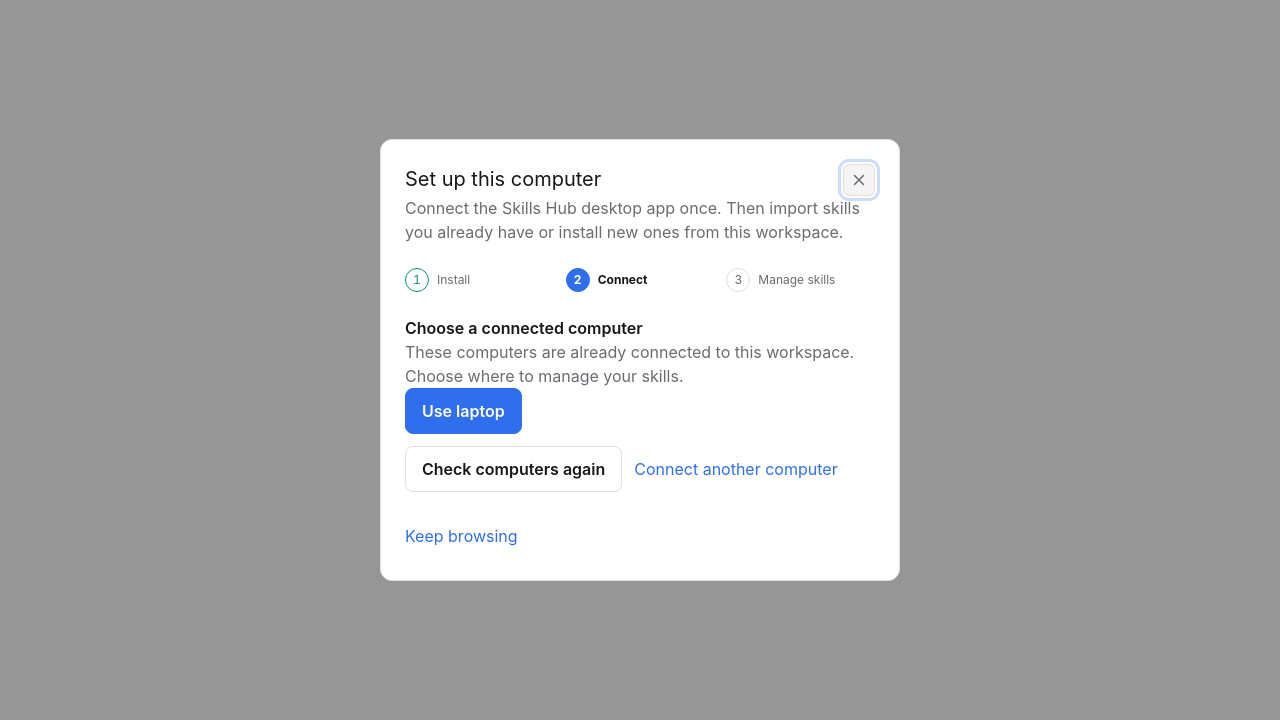
Test: rechecks a listed computer before selecting it and explains if it went offline
The image size is (1280, 720).
Click the button "Use laptop".
click(463, 411)  # box [405,388,522,434]
Wait 3000 ms
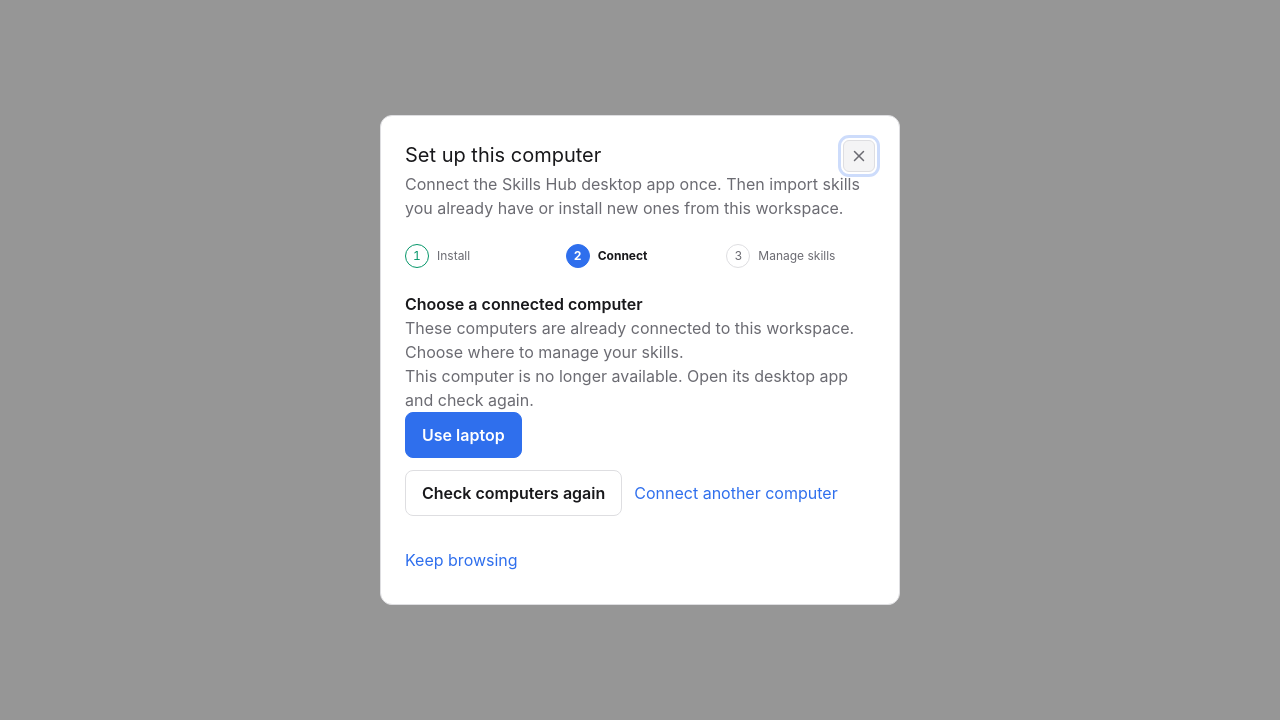
Check: the message "This computer is no longer available. Open its desktop app and check again." is shown, box [405,364,875,412]
